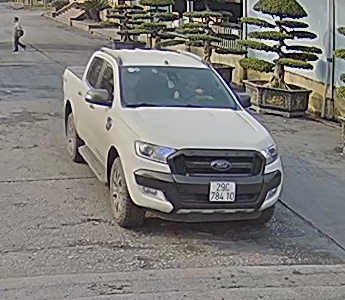vehicle plate: (207, 179, 239, 203)
